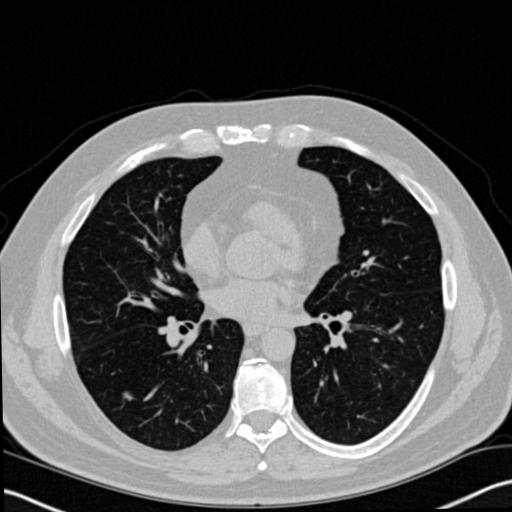nodule: (121, 390, 135, 404)
